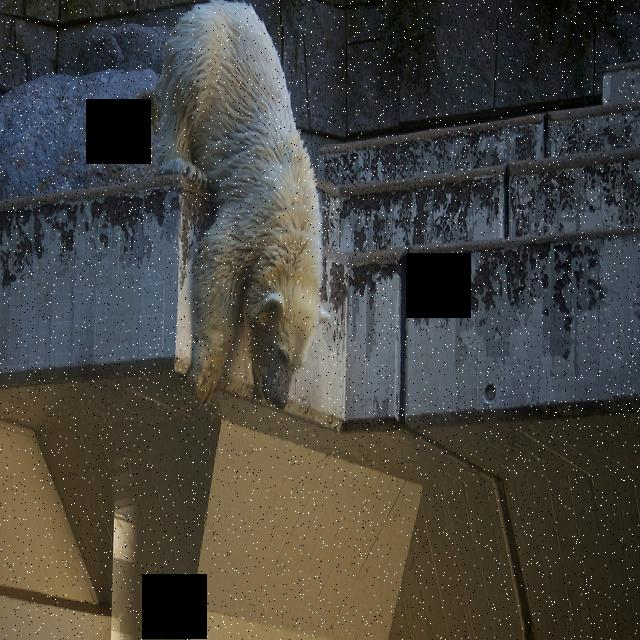Bear: (140, 0, 322, 426)
